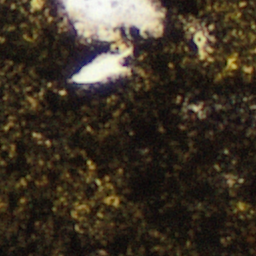cement_matrix: (0, 0, 255, 255), (192, 27, 209, 56)
gravel_crushed_stones: (59, 0, 162, 85), (193, 28, 208, 55), (33, 0, 40, 6)
